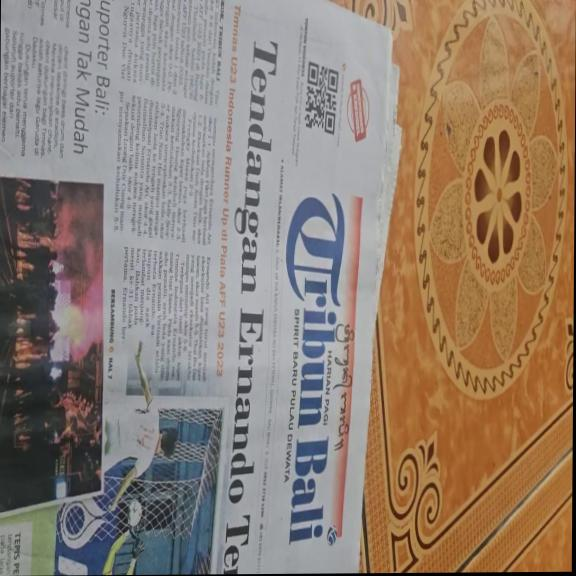Kertas: (11, 0, 387, 566)
